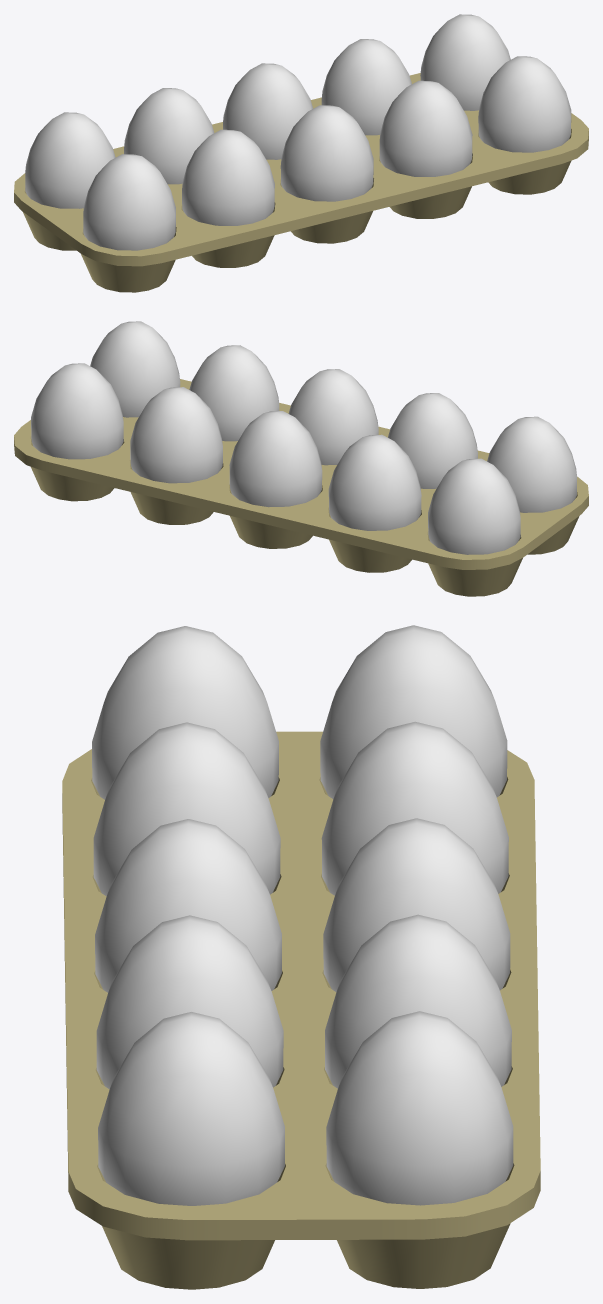
The model's file is Fridgerer_Eggs.glb.
The picture shows the model from 3 angles, top to bottom: view 1: azimuth 30°, elevation 25°; view 2: azimuth 150°, elevation 25°; view 3: azimuth 270°, elevation 25°; orthographic projection. The views are drawn at different scales.
Parts seen in each view (by area): view 1: Eggs; view 2: Eggs; view 3: Eggs.
Boxes of the visible parts, x1,y1,x2,y2 form: Eggs: [14, 14, 588, 292]; Eggs: [14, 321, 588, 596]; Eggs: [62, 625, 540, 1289].
Size of the model in its own units: 0.3331 by 0.0766 by 0.1378.
